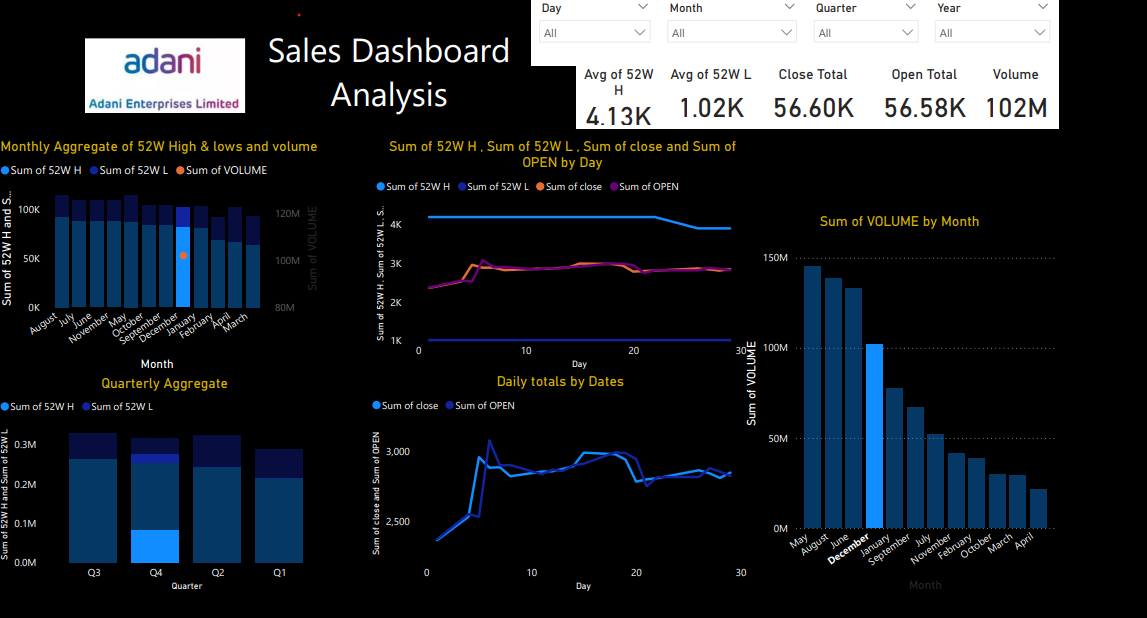

The dashboard page shown, as its layout file describes it:
{"tool":"powerbi","page":{"name":"Page 1","canvas":[1280,720],"ordinal":0},"visuals":[{"type":"slicer","fields":{"Values":["ADANI ENTERPRISES LIMITED.Day"]},"box":[644.1,0,154.2,83.1],"z":0},{"type":"slicer","fields":{"Values":["ADANI ENTERPRISES LIMITED.Month"]},"box":[798.3,0,176.3,83.1],"z":1000},{"type":"slicer","fields":{"Values":["ADANI ENTERPRISES LIMITED.Quarter"]},"box":[974.6,0,145.8,83.1],"z":2000},{"type":"slicer","fields":{"Values":["ADANI ENTERPRISES LIMITED.Year"]},"box":[1120.3,0,159.3,83.1],"z":3000},{"type":"card","title":"Avg of 52W H","fields":{"Values":["ADANI ENTERPRISES LIMITED.Average of 52W H"]},"box":[698.3,83.1,103.4,76.3],"z":4000},{"type":"card","title":"Avg of 52W L","fields":{"Values":["ADANI ENTERPRISES LIMITED.Average 52W L"]},"box":[801.7,83.1,118.6,76.3],"z":5000},{"type":"card","title":"Close Total","fields":{"Values":["Sum(ADANI ENTERPRISES LIMITED.close )"]},"box":[920.3,83.1,127.1,76.3],"z":6000},{"type":"card","title":"Open Total","fields":{"Values":["Sum(ADANI ENTERPRISES LIMITED.OPEN )"]},"box":[1047.5,83.1,140.7,76.3],"z":7000},{"type":"card","title":"Volume","fields":{"Values":["Sum(ADANI ENTERPRISES LIMITED.VOLUME )"]},"box":[1176.3,83.1,103.4,76.3],"z":8000},{"type":"columnChart","title":"Quarterly Aggregate","fields":{"Y":["Sum(ADANI ENTERPRISES LIMITED.52W H )","Sum(ADANI ENTERPRISES LIMITED.52W L )"],"Category":["ADANI ENTERPRISES LIMITED.Quarter"]},"box":[0,454.2,406.8,266.1],"z":9000},{"type":"lineStackedColumnComboChart","title":"Monthly Aggregate of 52W High & lows and volume","fields":{"Y":["Sum(ADANI ENTERPRISES LIMITED.52W H )","Sum(ADANI ENTERPRISES LIMITED.52W L )"],"Category":["ADANI ENTERPRISES LIMITED.Month"],"Y2":["Sum(ADANI ENTERPRISES LIMITED.VOLUME )"]},"box":[0,169.5,393.2,284.7],"z":10000},{"type":"lineChart","title":"Daily totals by Dates","fields":{"Y":["Sum(ADANI ENTERPRISES LIMITED.close )","Sum(ADANI ENTERPRISES LIMITED.OPEN )"],"Category":["ADANI ENTERPRISES LIMITED.Date .Variation.Date Hierarchy.Day"]},"box":[447.5,452.5,464.4,267.8],"z":11000},{"type":"lineChart","fields":{"Y":["Sum(ADANI ENTERPRISES LIMITED.52W H )","Sum(ADANI ENTERPRISES LIMITED.52W L )","Sum(ADANI ENTERPRISES LIMITED.close )","Sum(ADANI ENTERPRISES LIMITED.OPEN )"],"Category":["ADANI ENTERPRISES LIMITED.Date .Variation.Date Hierarchy.Day"]},"box":[452.5,169.5,459.3,283.1],"z":12000},{"type":"clusteredColumnChart","fields":{"Y":["Sum(ADANI ENTERPRISES LIMITED.VOLUME )"],"Category":["ADANI ENTERPRISES LIMITED.Month"]},"box":[896.6,259.3,383.1,461],"z":13000},{"type":"shape","box":[306.8,11.9,333.9,154.2],"z":14000},{"type":"image","box":[103.4,11.9,267.8,135.6],"z":15000}]}

Visuals, with their boxes on the page's 1280x720 design canvas (x1, y1, x2, y2). These are canvas units, not pixel positions in the 1147x618 screenshot, which may show the page scaled, cropped or inside an application window:
slicer - ADANI ENTERPRISES LIMITED.Day: [left=644, top=0, right=798, bottom=83]
slicer - ADANI ENTERPRISES LIMITED.Month: [left=798, top=0, right=975, bottom=83]
slicer - ADANI ENTERPRISES LIMITED.Quarter: [left=975, top=0, right=1120, bottom=83]
slicer - ADANI ENTERPRISES LIMITED.Year: [left=1120, top=0, right=1280, bottom=83]
"Avg of 52W H" card: [left=698, top=83, right=802, bottom=159]
"Avg of 52W L" card: [left=802, top=83, right=920, bottom=159]
"Close Total" card: [left=920, top=83, right=1047, bottom=159]
"Open Total" card: [left=1048, top=83, right=1188, bottom=159]
"Volume" card: [left=1176, top=83, right=1280, bottom=159]
"Quarterly Aggregate" columnChart: [left=0, top=454, right=407, bottom=720]
"Monthly Aggregate of 52W High & lows and volume" lineStackedColumnComboChart: [left=0, top=170, right=393, bottom=454]
"Daily totals by Dates" lineChart: [left=448, top=452, right=912, bottom=720]
lineChart - Sum(ADANI ENTERPRISES LIMITED.52W H ) x Sum(ADANI ENTERPRISES LIMITED.52W L ): [left=452, top=170, right=912, bottom=453]
clusteredColumnChart - Sum(ADANI ENTERPRISES LIMITED.VOLUME ) x ADANI ENTERPRISES LIMITED.Month: [left=897, top=259, right=1280, bottom=720]
shape: [left=307, top=12, right=641, bottom=166]
image: [left=103, top=12, right=371, bottom=148]
